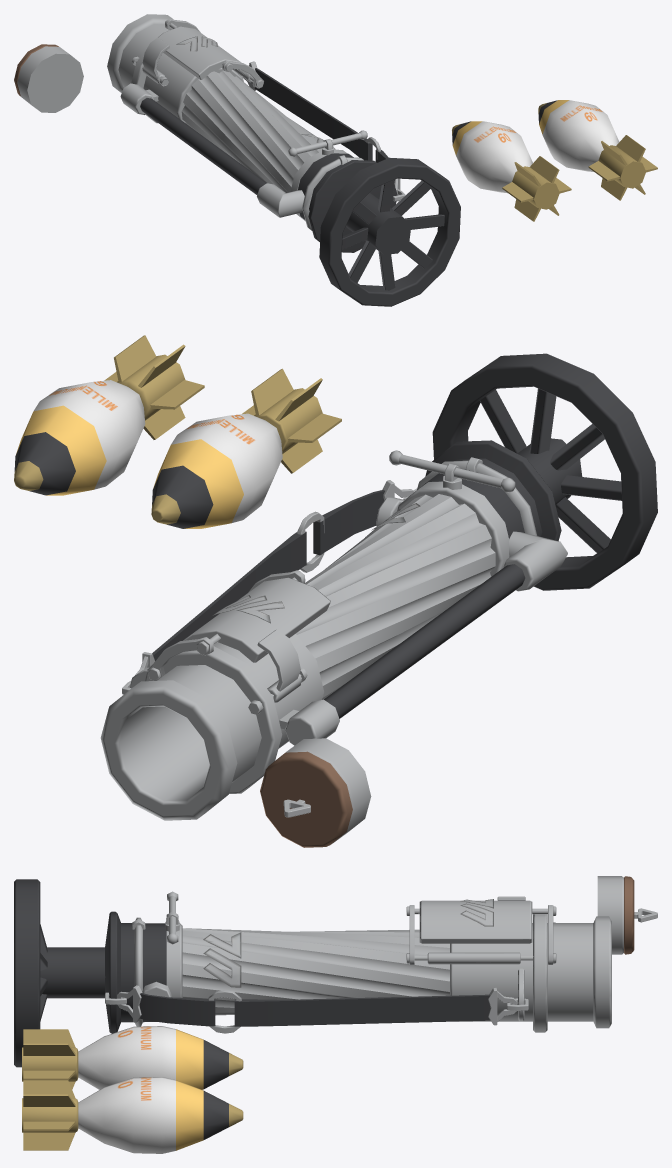
Rendered from hibiki.glb.
3 renders of one model, top to bottom at view 1: azimuth 30°, elevation 25°; view 2: azimuth 150°, elevation 25°; view 3: azimuth 270°, elevation 25°, orthographic. The views are drawn at different scales.
Visible parts, largest first — view 1: Hibiki_Original_Weapon; view 2: Hibiki_Original_Weapon; view 3: Hibiki_Original_Weapon.
Boxes of the visible parts, x1=… form: Hibiki_Original_Weapon: x1=14, y1=14, x2=657, y2=306; Hibiki_Original_Weapon: x1=14, y1=335, x2=657, y2=847; Hibiki_Original_Weapon: x1=14, y1=876, x2=657, y2=1153.
Size of the model in its own units: 0.5103 by 0.1732 by 0.5933.
1 material, 1 textured.
